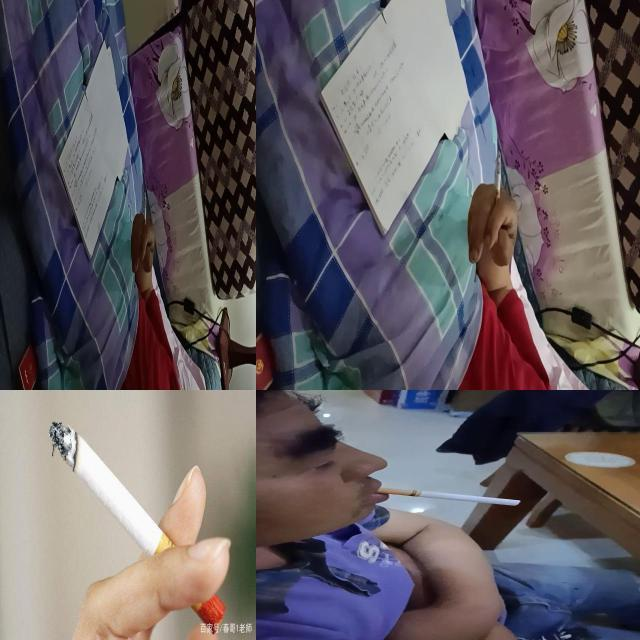smoking: (48, 420, 226, 634), (376, 488, 524, 506), (494, 151, 502, 212), (144, 192, 146, 232)
